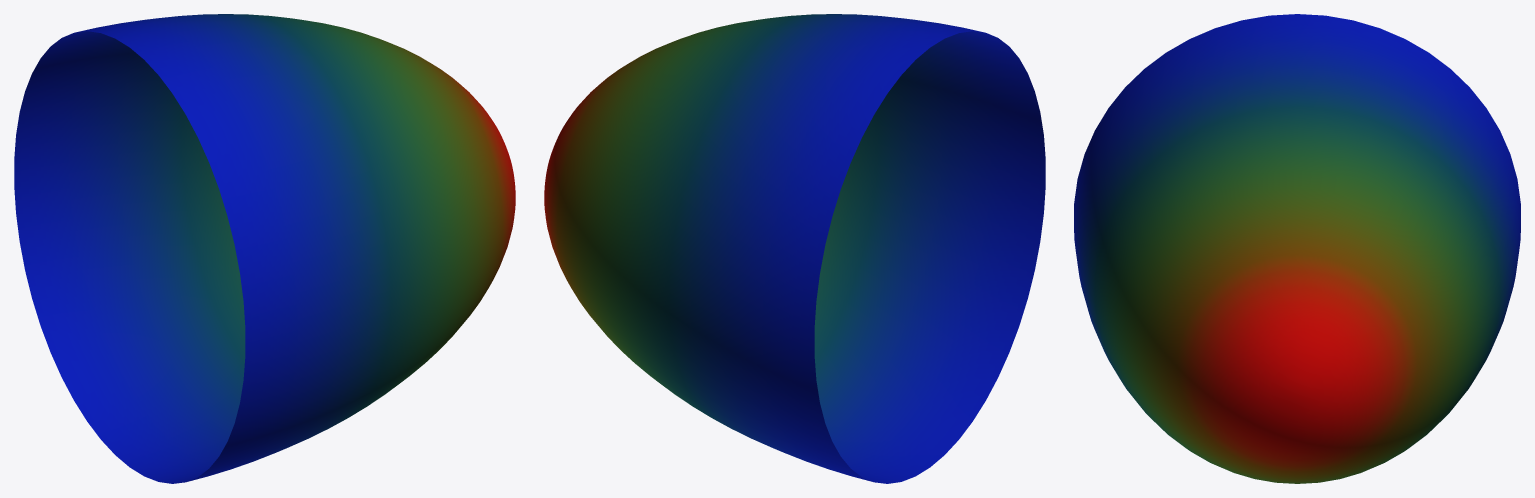
The model's file is EffMD_FireBall_Main_01.fbx.
The picture shows the model from 3 angles, left to right: view 1: azimuth 30°, elevation 25°; view 2: azimuth 150°, elevation 25°; view 3: azimuth 270°, elevation 25°; orthographic projection. The views are drawn at different scales.
Parts seen in each view (by area): view 1: pSphere1; view 2: pSphere1; view 3: pSphere1.
Boxes of the visible parts, left/top/right/bottom form: pSphere1: left=14, top=14, right=515, bottom=483; pSphere1: left=544, top=14, right=1045, bottom=483; pSphere1: left=1074, top=14, right=1520, bottom=483.
Size of the model in its own units: 91.78 by 100 by 99.8.
